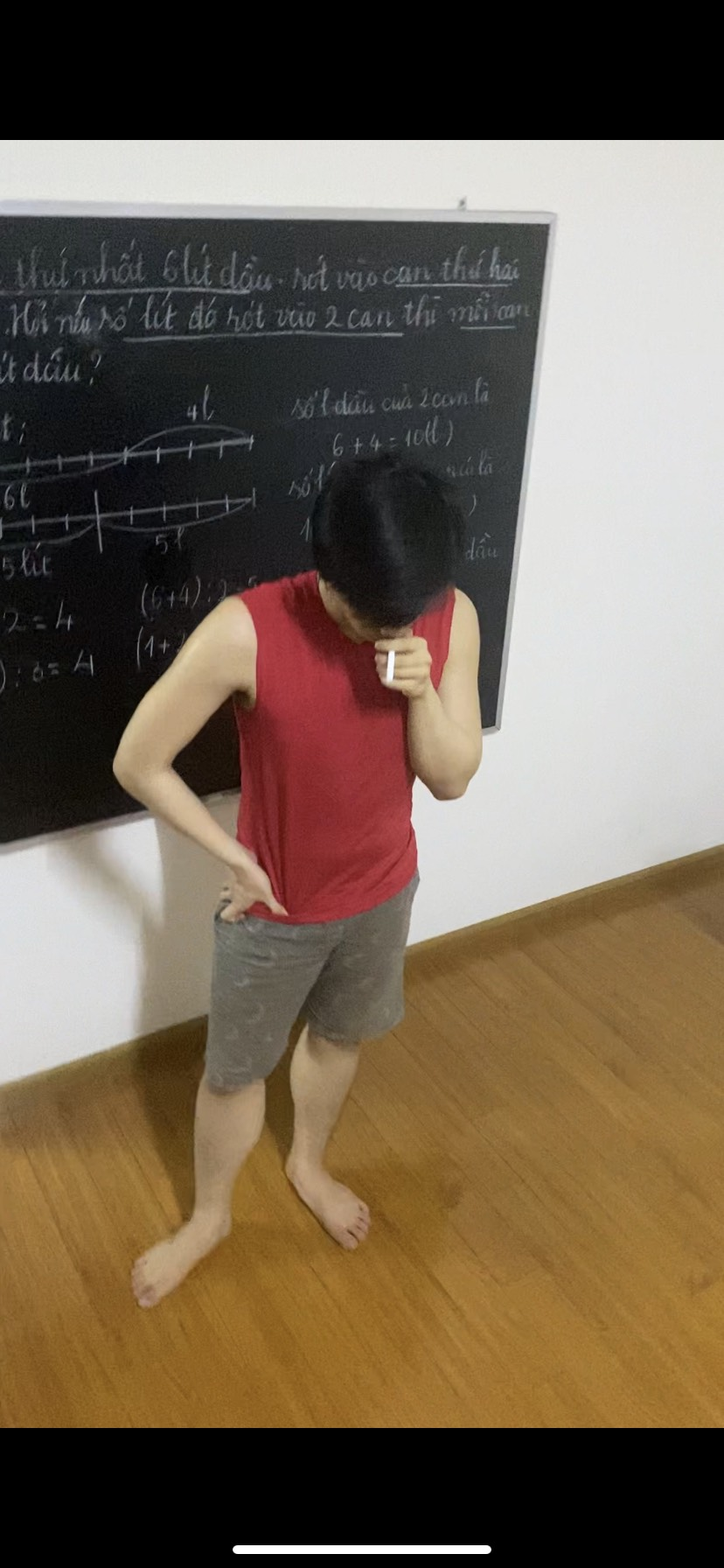cigarette: (382, 650, 401, 686)
person: (113, 435, 489, 1287)
